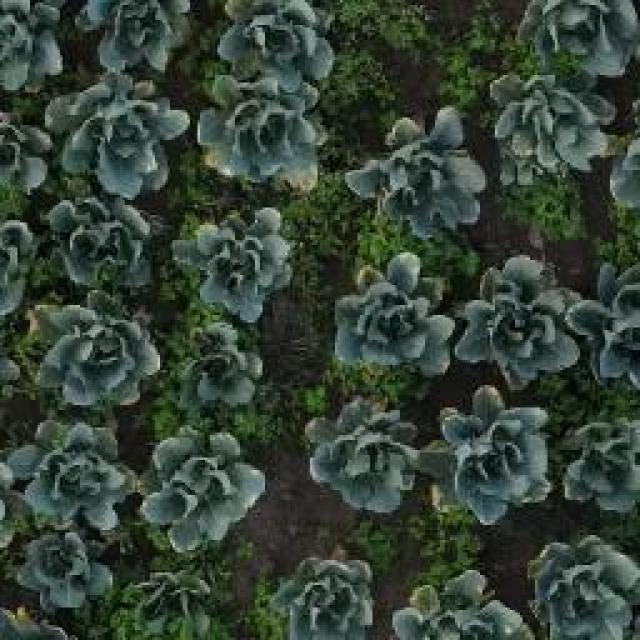cabbage: (425, 383, 553, 528), (454, 251, 584, 388), (49, 71, 190, 196), (350, 105, 484, 233), (140, 427, 270, 558), (330, 250, 456, 374), (36, 299, 162, 415), (307, 392, 420, 520), (488, 68, 610, 184), (196, 85, 326, 191), (10, 420, 138, 524), (179, 206, 292, 320), (529, 534, 639, 640), (388, 562, 530, 640), (12, 524, 122, 623), (217, 0, 337, 89), (266, 549, 376, 640), (173, 318, 272, 409), (75, 0, 190, 75), (560, 413, 640, 516), (53, 205, 143, 281)
